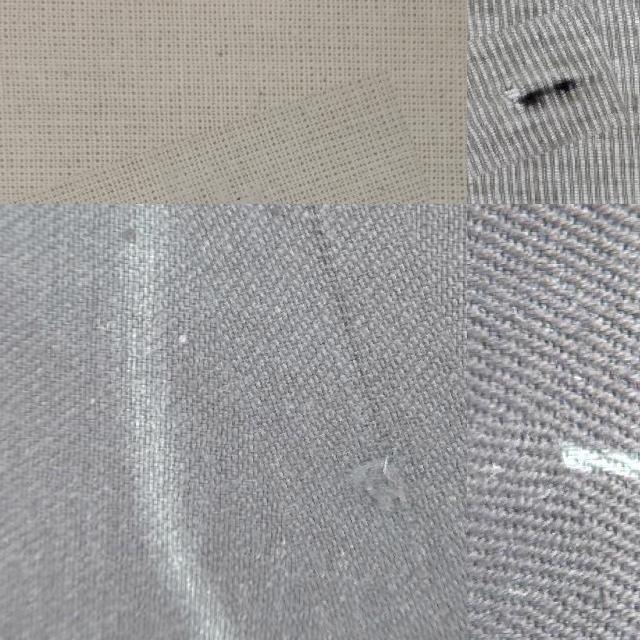Thread_other: (192, 204, 467, 640), (32, 93, 467, 204), (467, 446, 597, 640)
seam: (467, 11, 622, 165)
